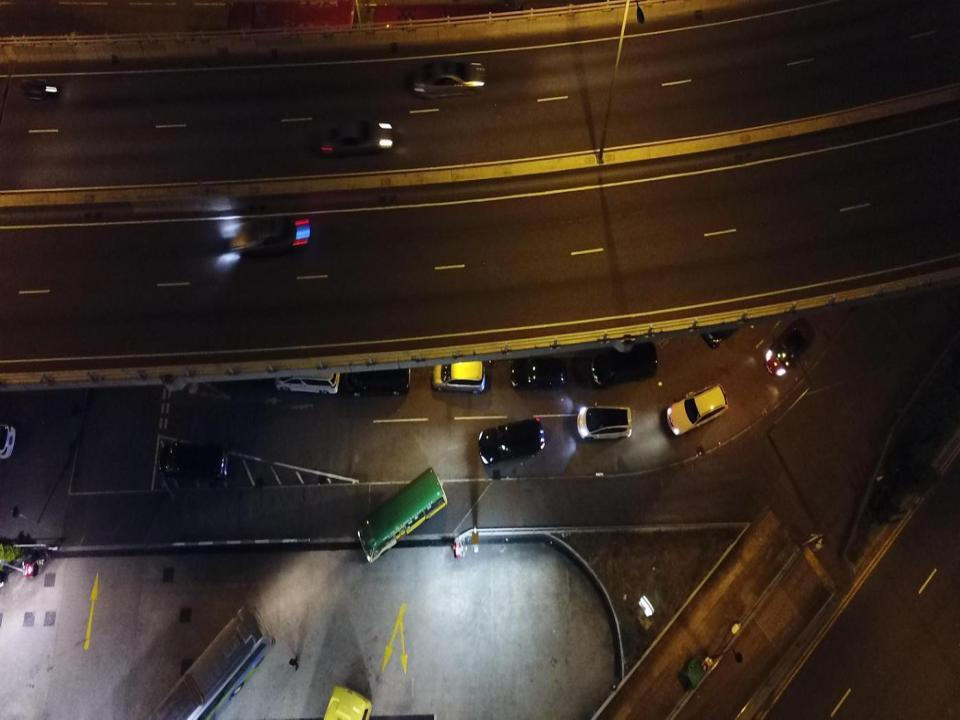bus: (134, 606, 270, 719), (354, 463, 448, 562)
car: (232, 216, 312, 256), (478, 415, 546, 462), (668, 385, 730, 436), (312, 118, 395, 153), (408, 58, 485, 93), (765, 320, 813, 376), (429, 354, 486, 400), (576, 400, 634, 442), (511, 357, 566, 390)
van: (156, 440, 227, 487), (590, 340, 658, 386), (274, 358, 340, 398), (346, 360, 411, 396)
